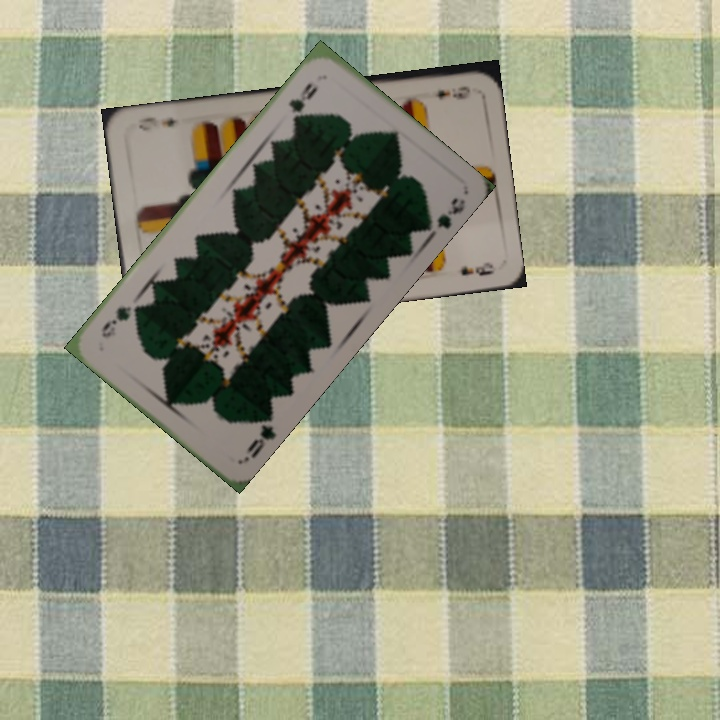E9: (431, 82, 473, 101)
G9: (240, 410, 278, 464), (285, 79, 321, 124)
